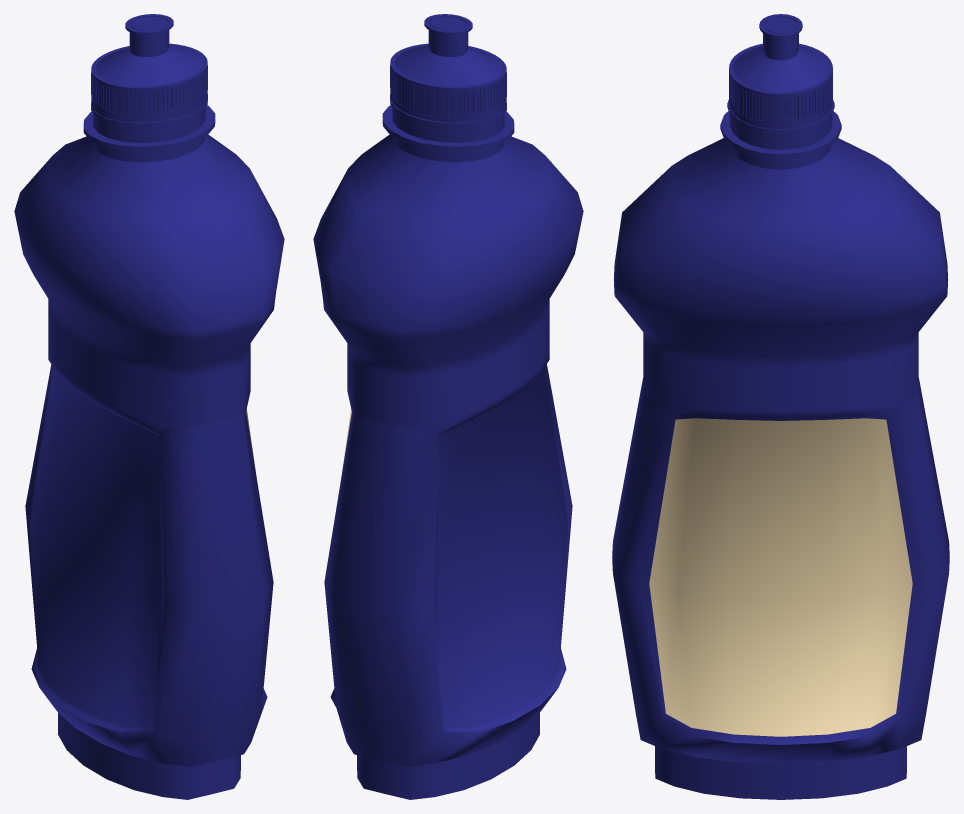
Rendered from cleansingfoam.fbx.
The picture shows the model from 3 angles, left to right: view 1: azimuth 30°, elevation 25°; view 2: azimuth 150°, elevation 25°; view 3: azimuth 270°, elevation 25°; orthographic projection. The views are drawn at different scales.
Visible parts, largest first — view 1: polySurface222; view 2: polySurface222; view 3: polySurface222.
Boxes of the visible parts, bbox=[...] form: polySurface222: bbox=[14, 14, 284, 799]; polySurface222: bbox=[313, 14, 583, 799]; polySurface222: bbox=[612, 14, 949, 799].
Bounding box in the file's own units: 13.23 × 42.63 × 17.58.
